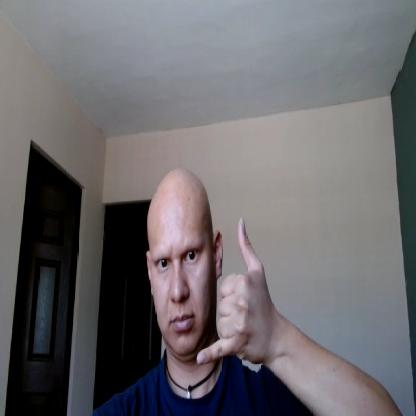Y: (197, 218, 270, 363)
